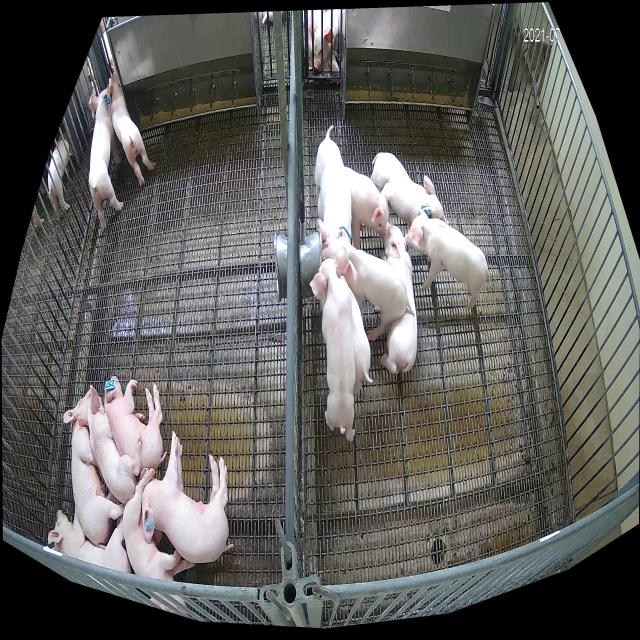pig: (142, 431, 234, 564), (123, 466, 196, 617), (63, 387, 125, 547), (322, 237, 413, 343), (309, 245, 356, 444), (406, 209, 488, 310), (76, 384, 142, 504), (369, 153, 448, 228), (104, 377, 164, 472), (379, 225, 416, 375), (88, 77, 124, 231), (48, 508, 131, 574), (111, 72, 156, 188), (314, 127, 352, 242), (344, 166, 395, 249), (351, 289, 373, 393)
